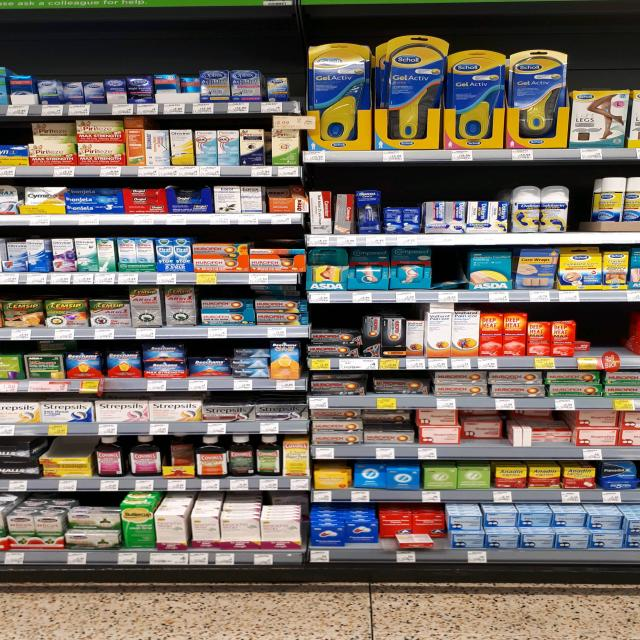unorganised: (513, 247, 559, 291), (460, 409, 508, 447), (520, 410, 569, 435), (332, 192, 356, 234), (392, 530, 435, 550), (430, 266, 469, 288), (363, 412, 413, 429), (169, 434, 194, 465), (506, 419, 531, 448), (574, 335, 591, 355)
